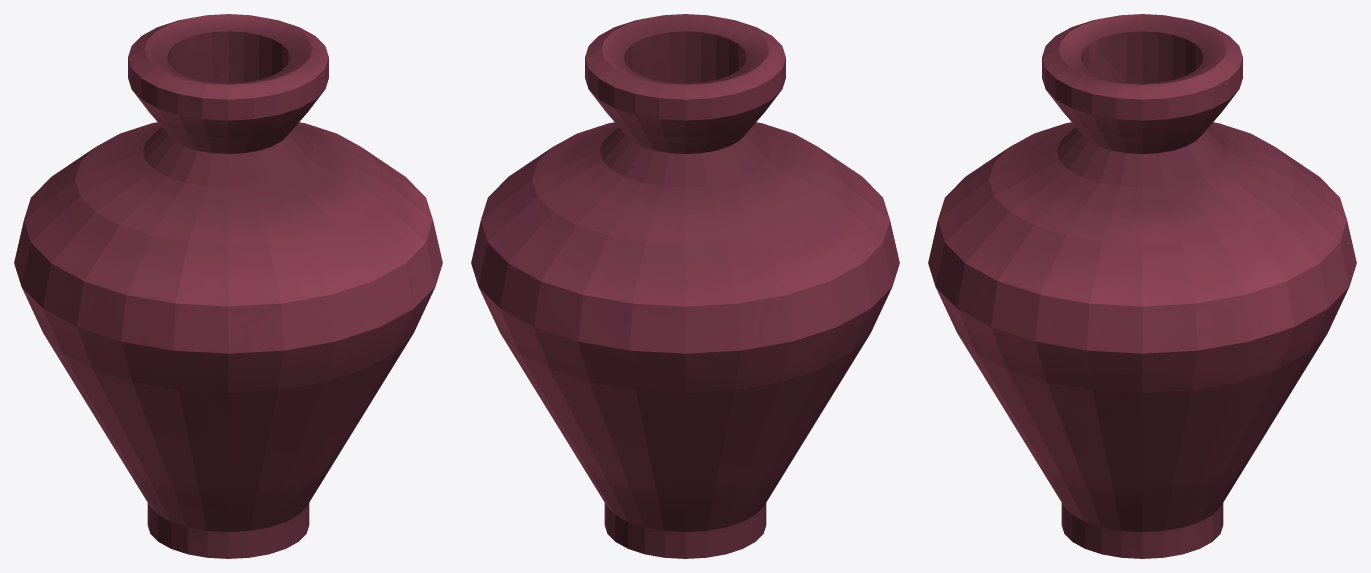
File: vase.fbx
3 renders of one model, left to right at view 1: azimuth 30°, elevation 25°; view 2: azimuth 150°, elevation 25°; view 3: azimuth 270°, elevation 25°, orthographic.
Visible parts, largest first — view 1: vase; view 2: vase; view 3: vase.
Boxes of the visible parts, <box> form: vase: <box>14,14,442,558</box>; vase: <box>471,14,899,558</box>; vase: <box>928,14,1356,558</box>.
Size of the model in its own units: 58.65 by 58.65 by 71.72.
